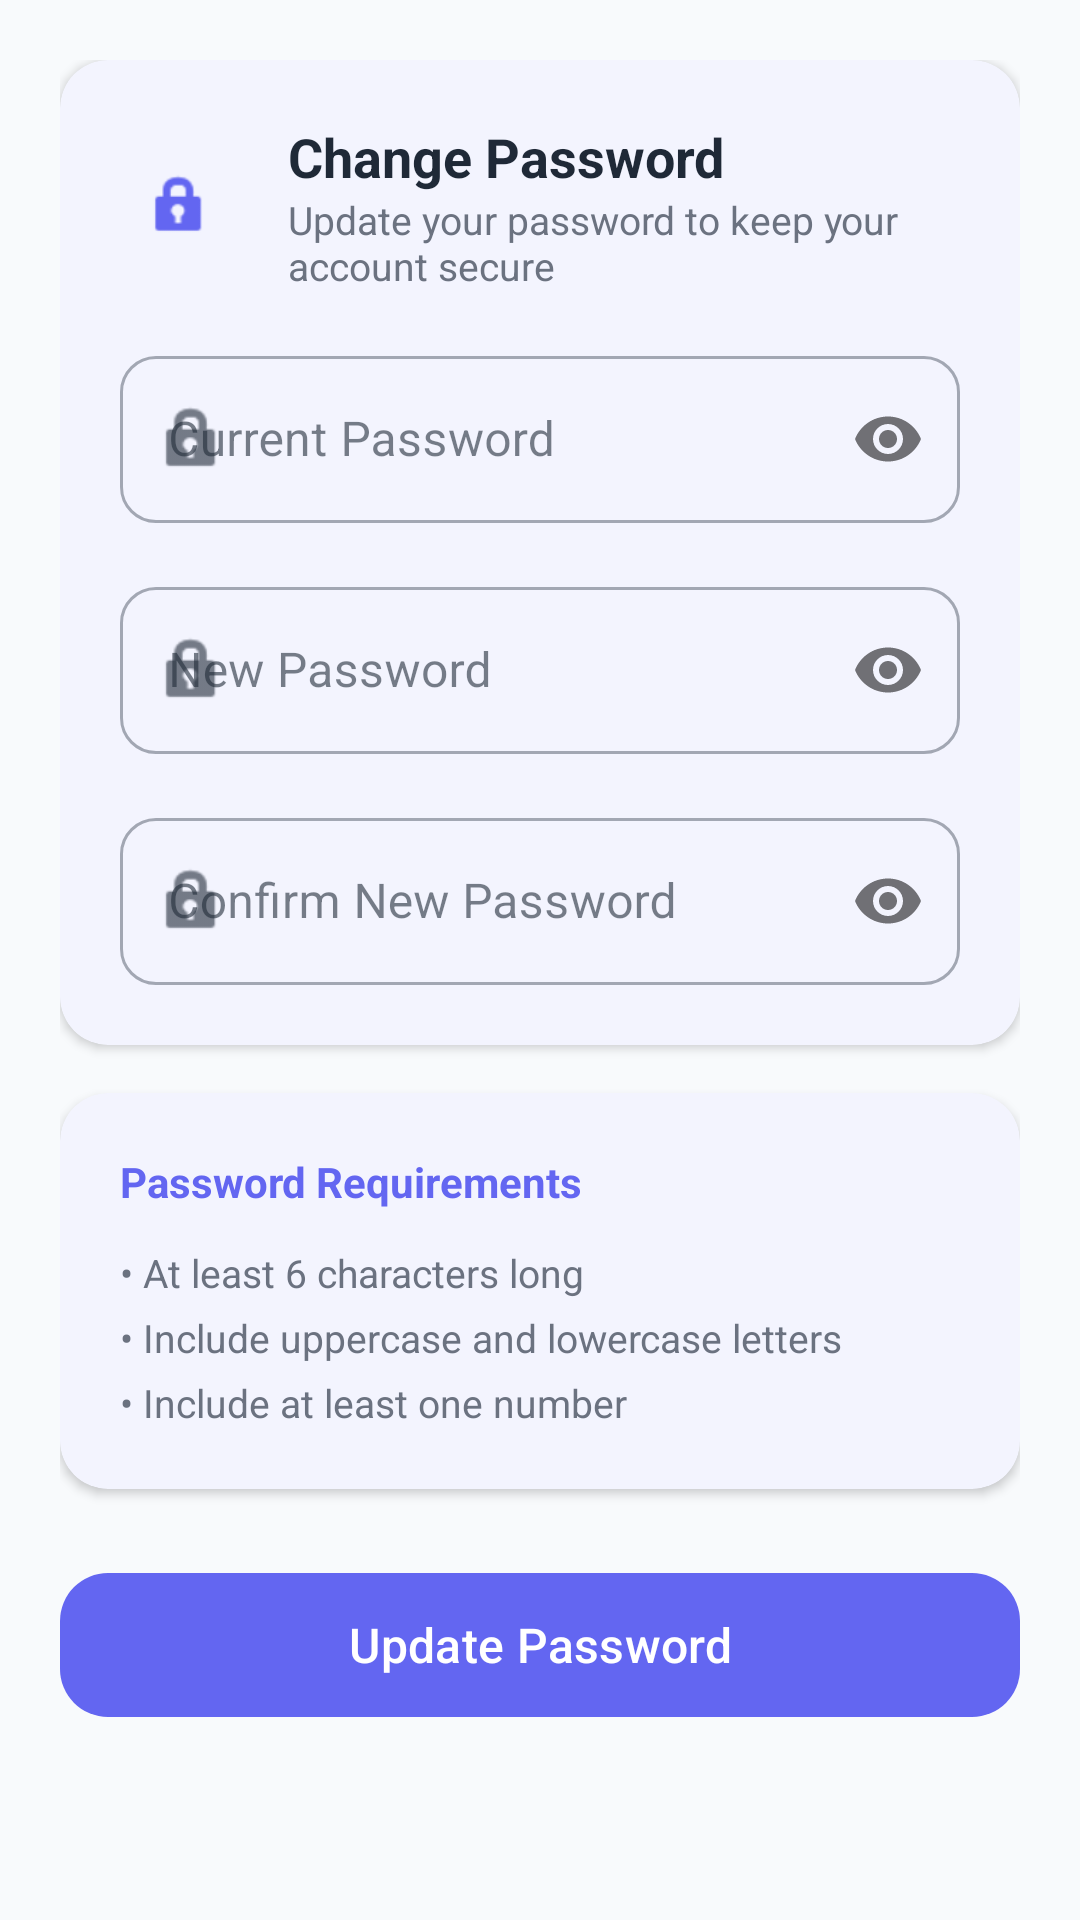

Locate icon controls on the screen. Image size 1080px x 1920px, boxes as (x1, y1, x2, y2).
lock idle: (155, 176, 202, 231)
